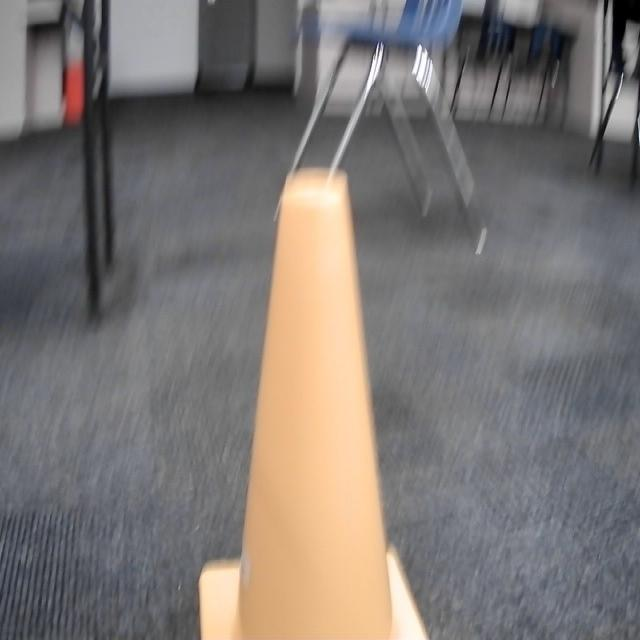cone: (197, 170, 431, 640)
